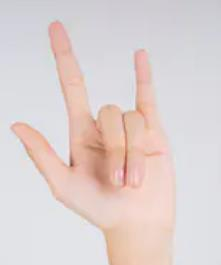back: (9, 19, 176, 230)
